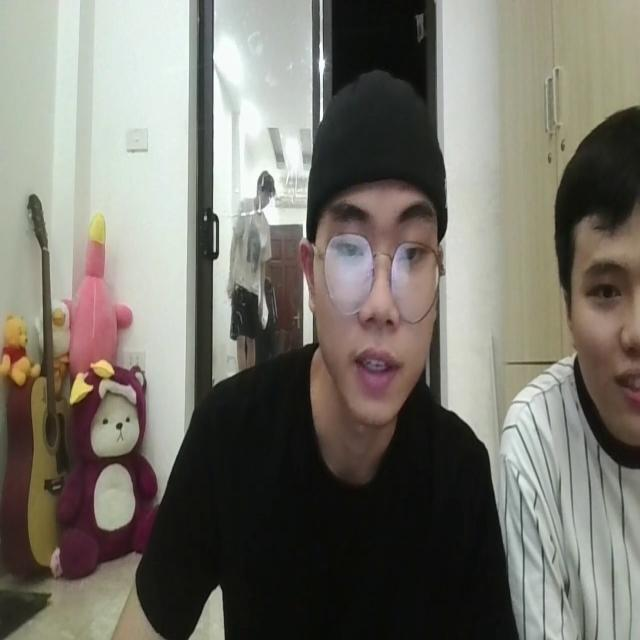extra_person: (510, 81, 640, 640)
student: (148, 70, 499, 640)
